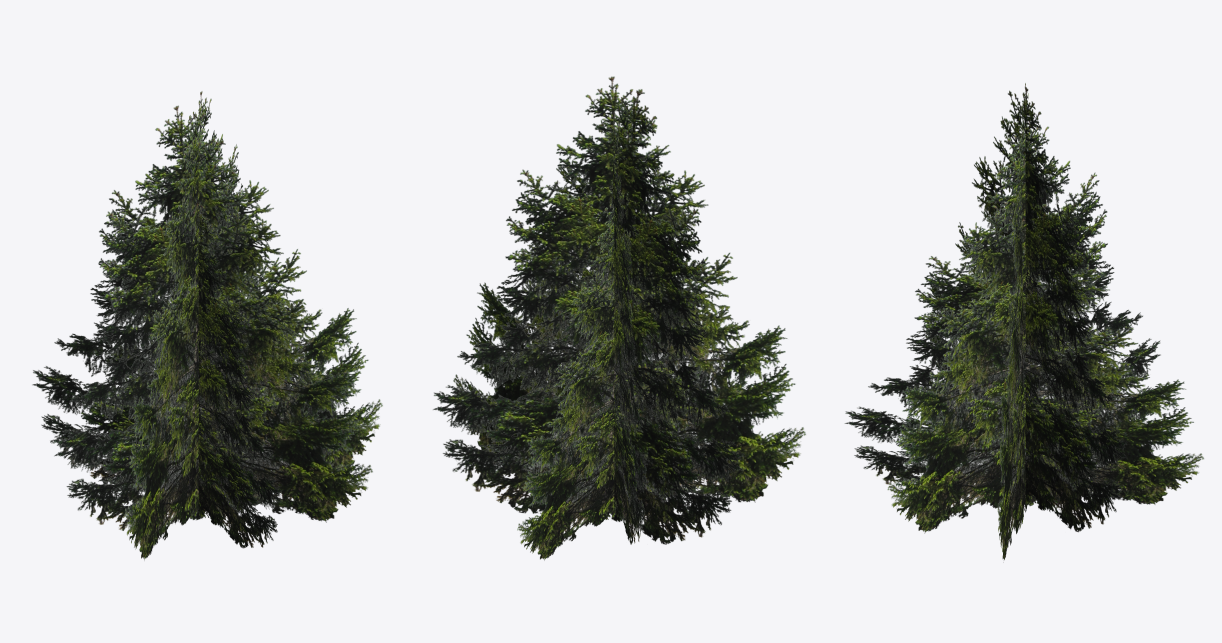
File: treebillboard.glb
3 renders of one model, left to right at view 1: azimuth 30°, elevation 25°; view 2: azimuth 150°, elevation 25°; view 3: azimuth 270°, elevation 25°, orthographic. The views are drawn at different scales.
Visible parts, largest first — view 1: pine1_pine2_0; view 2: pine1_pine2_0; view 3: pine1_pine2_0.
Part boxes in pixels (x1,y1,x2,y2): pine1_pine2_0: (32, 91, 382, 560); pine1_pine2_0: (433, 76, 805, 560); pine1_pine2_0: (844, 83, 1204, 562).
Bounding box in the file's own units: 34.42 × 46.85 × 30.97.
1 material, 1 textured.
